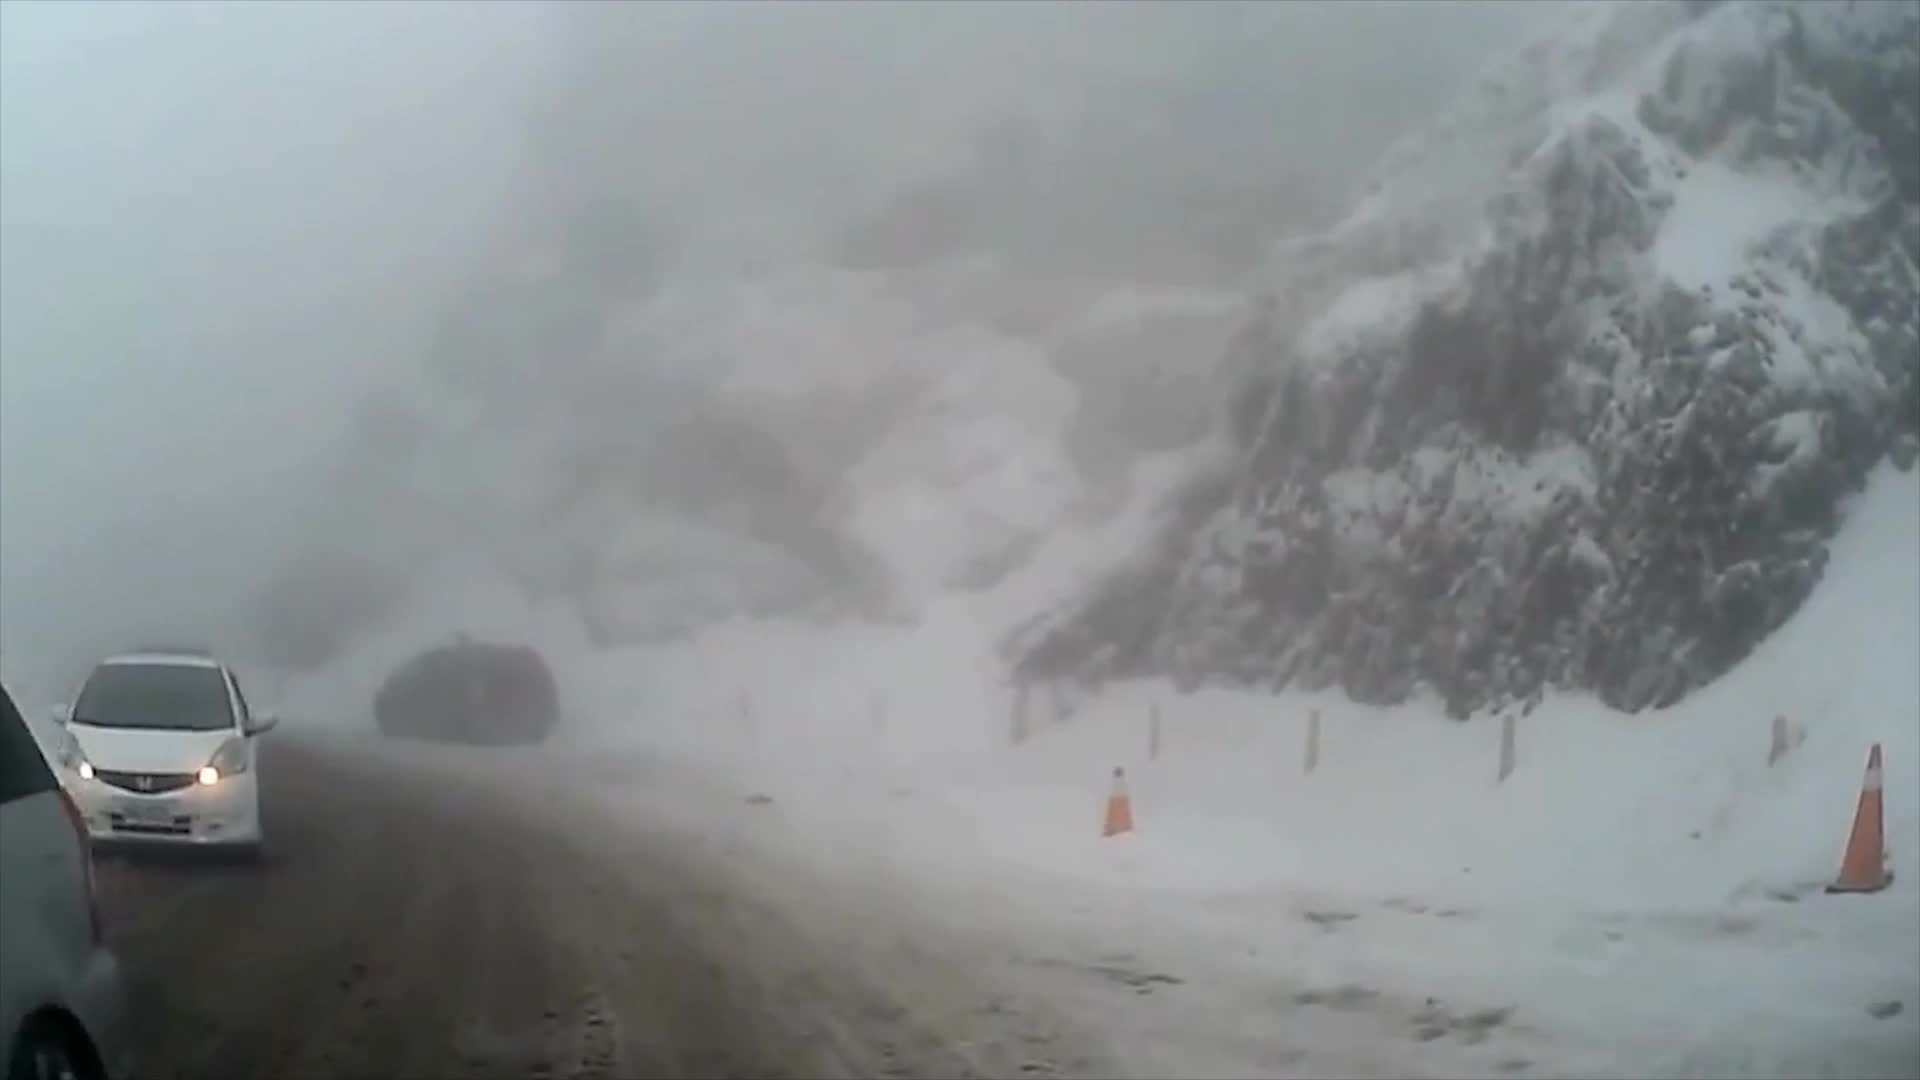vehicle: (0, 676, 133, 1080), (42, 650, 276, 869), (376, 645, 562, 749)
